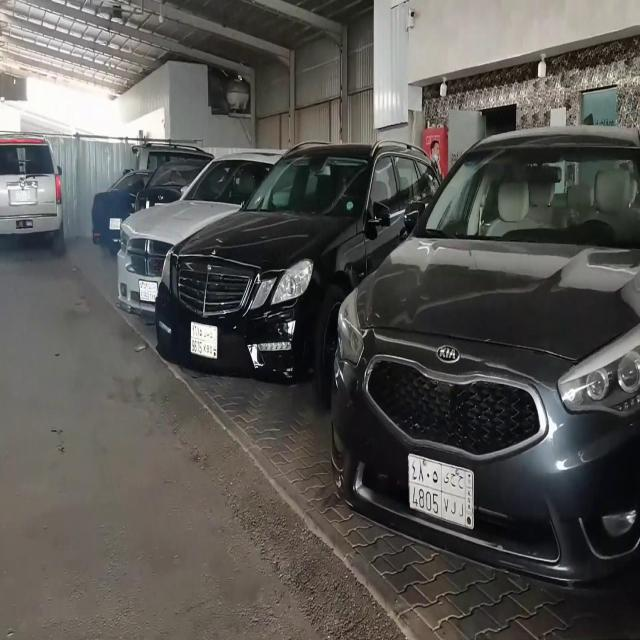license_plate: (404, 445, 477, 534), (187, 317, 218, 359), (7, 180, 36, 204), (135, 276, 157, 302), (13, 210, 32, 232), (106, 215, 121, 232)
